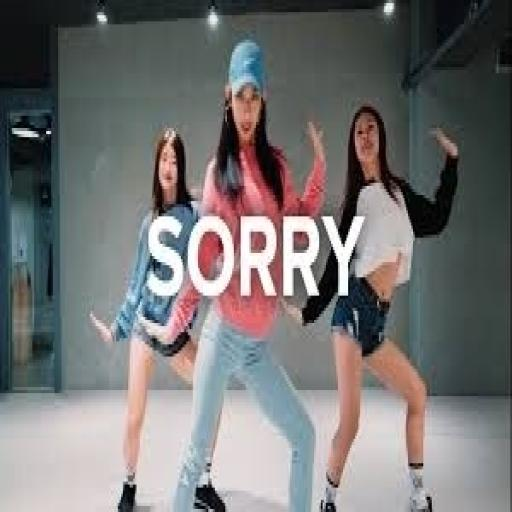dancing: (166, 37, 330, 509), (318, 101, 462, 509)
